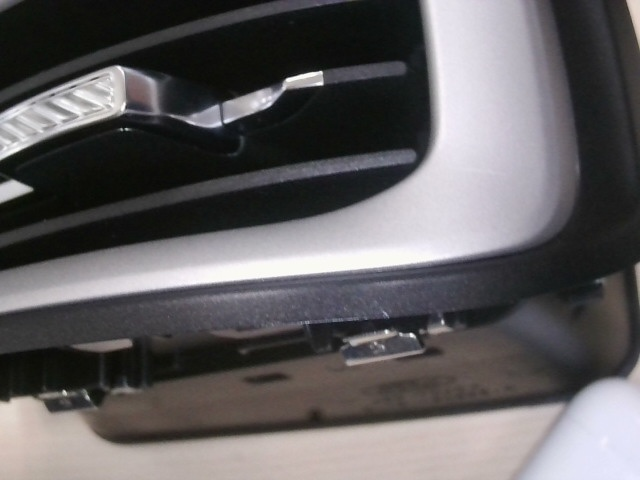NG: (363, 293, 409, 328)
